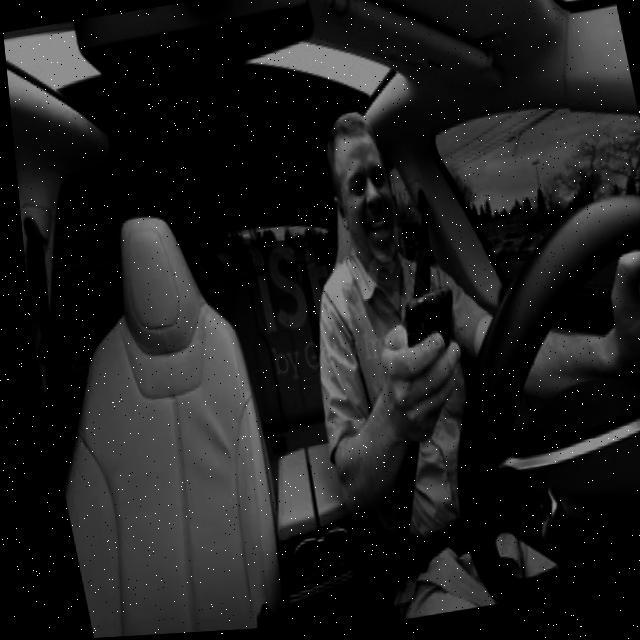PhoneCall: (393, 292, 462, 404)
